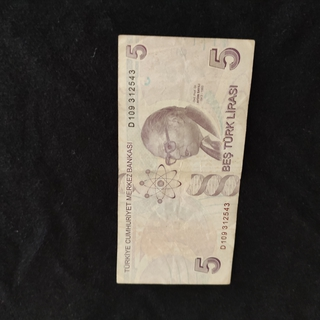5TLBack: (115, 34, 256, 285)
